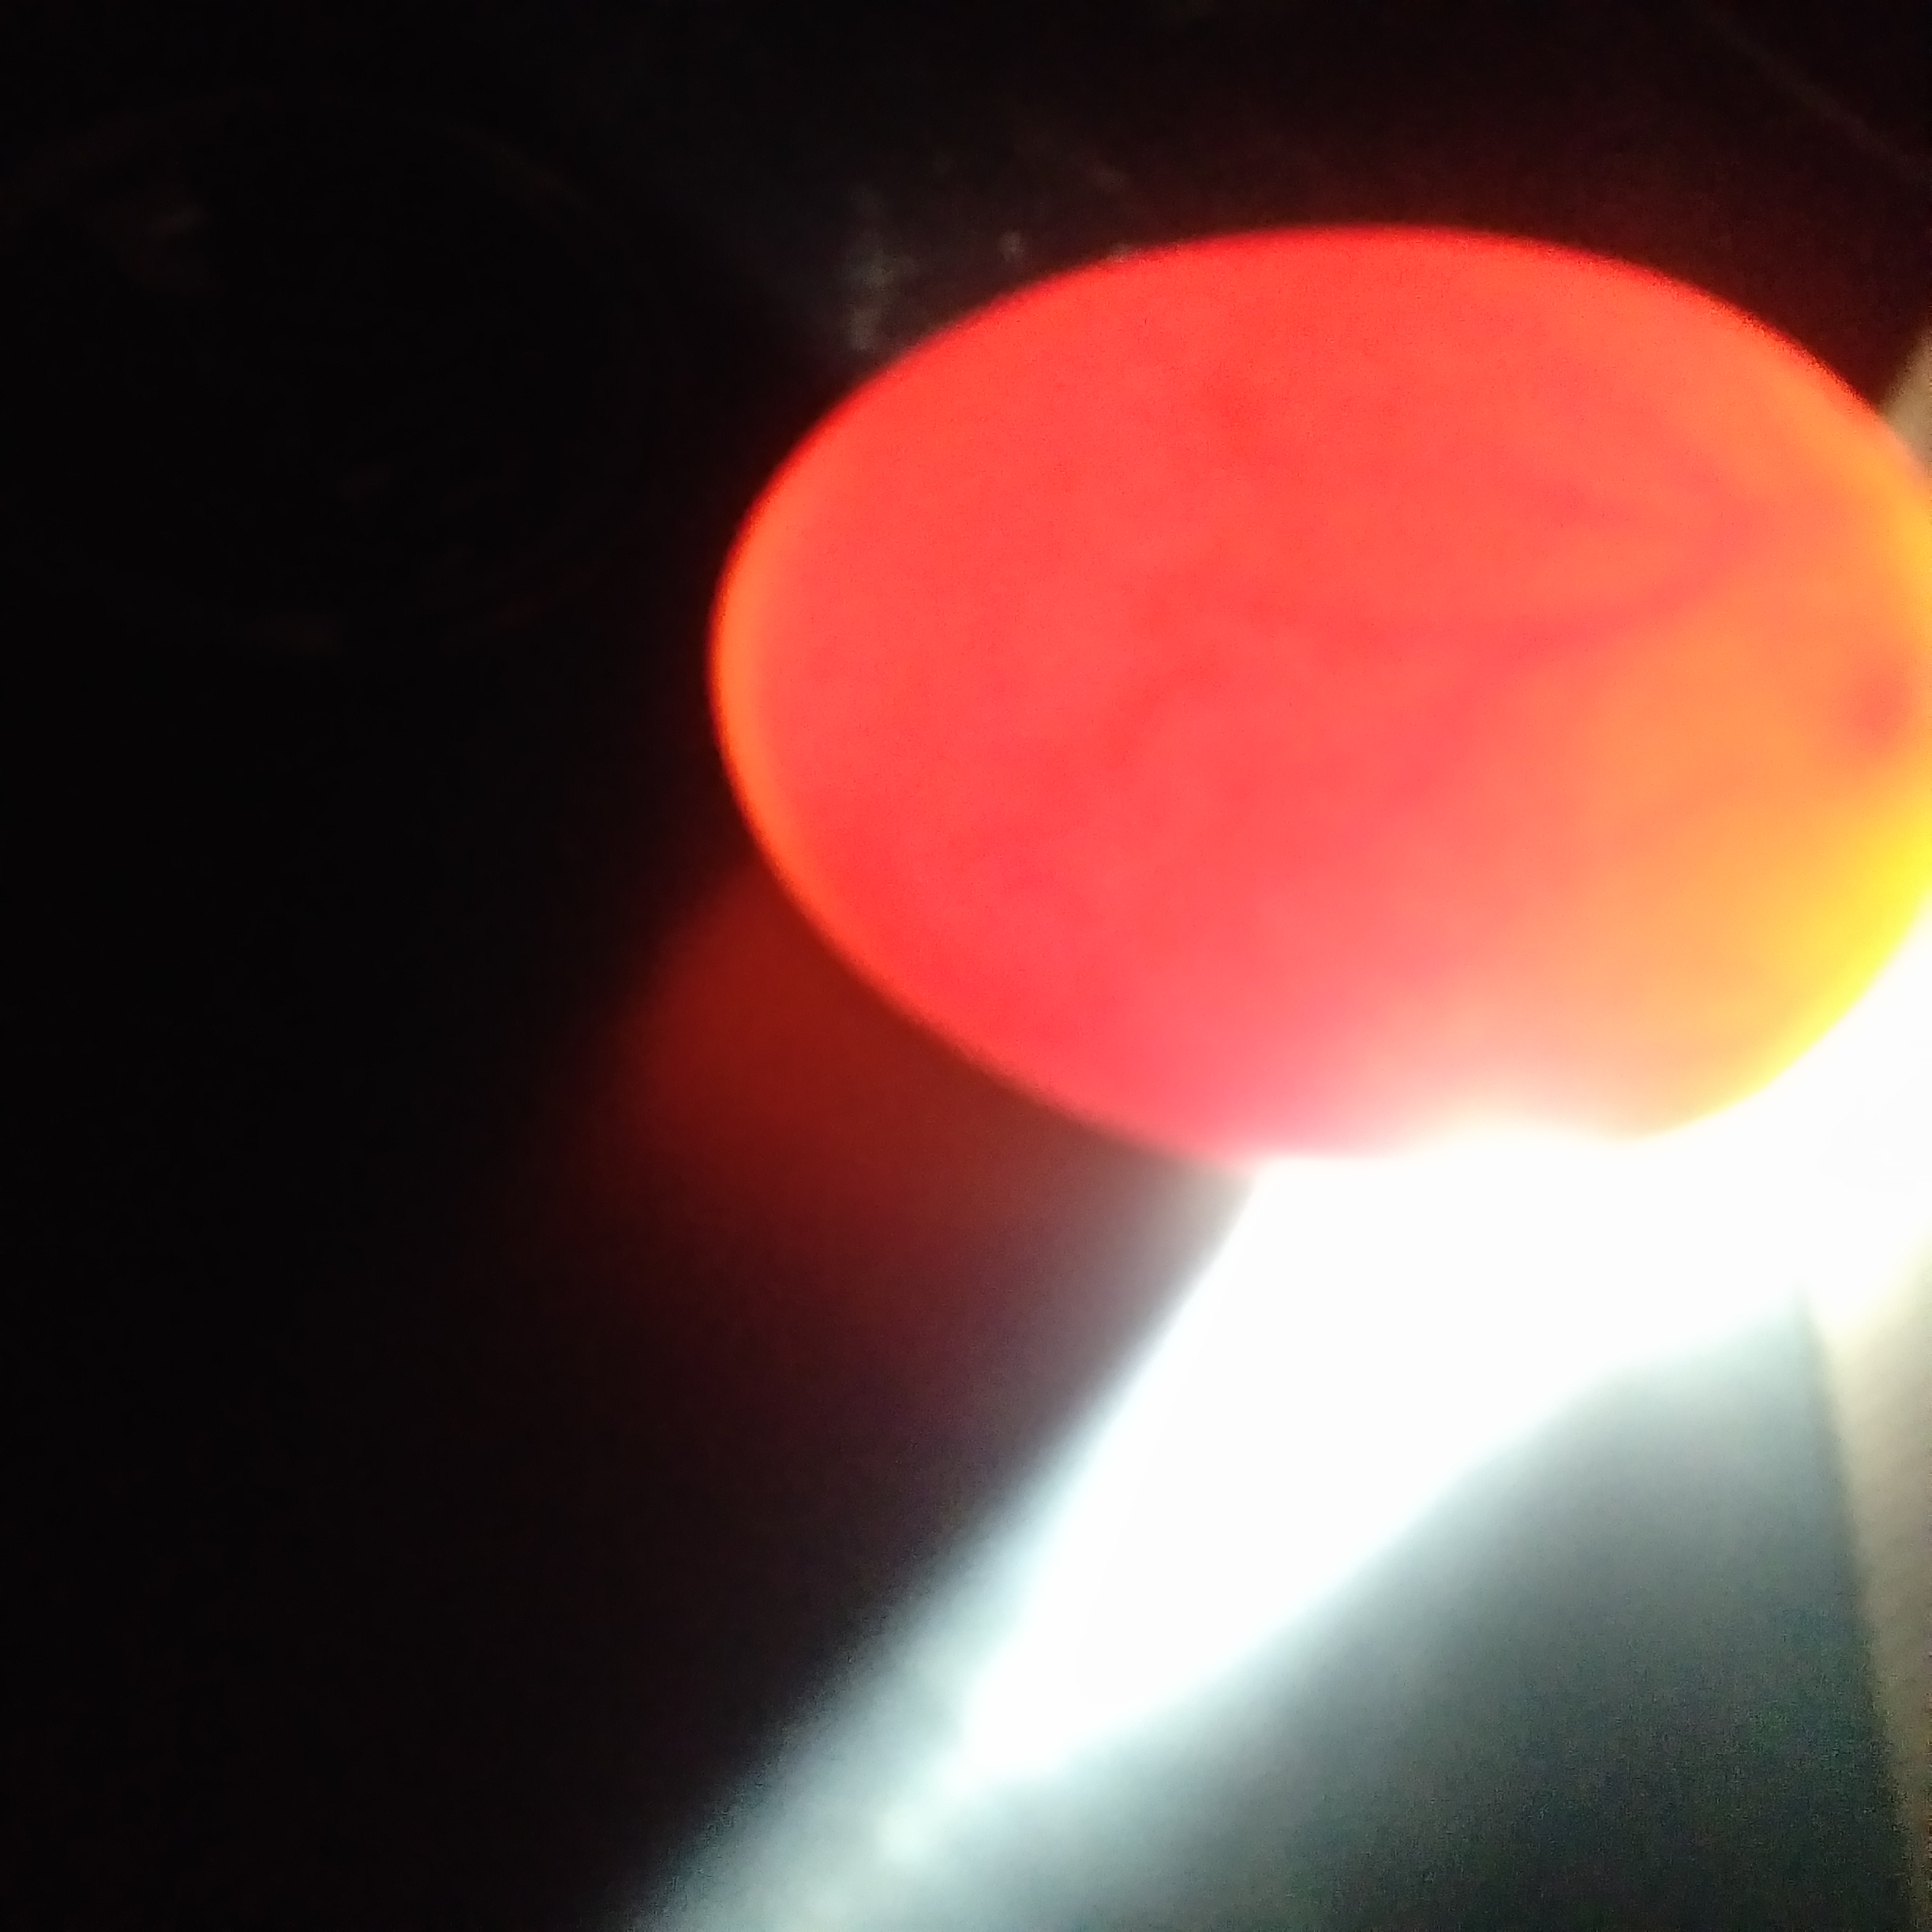bloodcell: (1460, 400, 1821, 879)
embryo: (1847, 619, 1932, 796)
